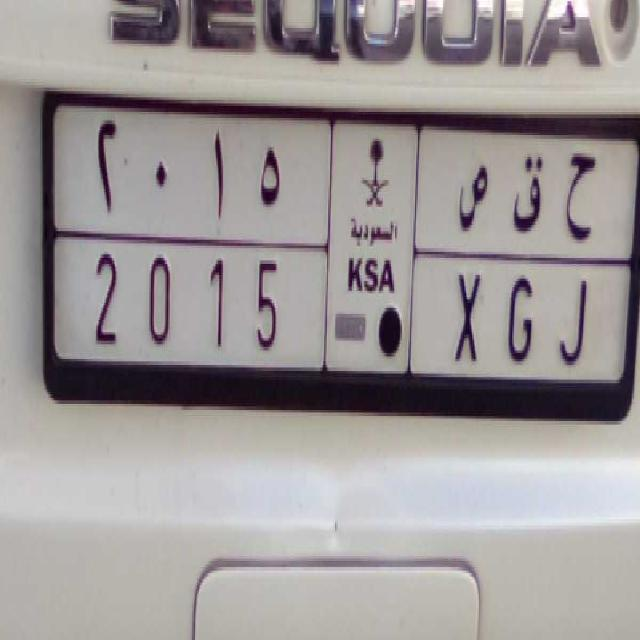license_plate: (74, 238, 604, 390)
